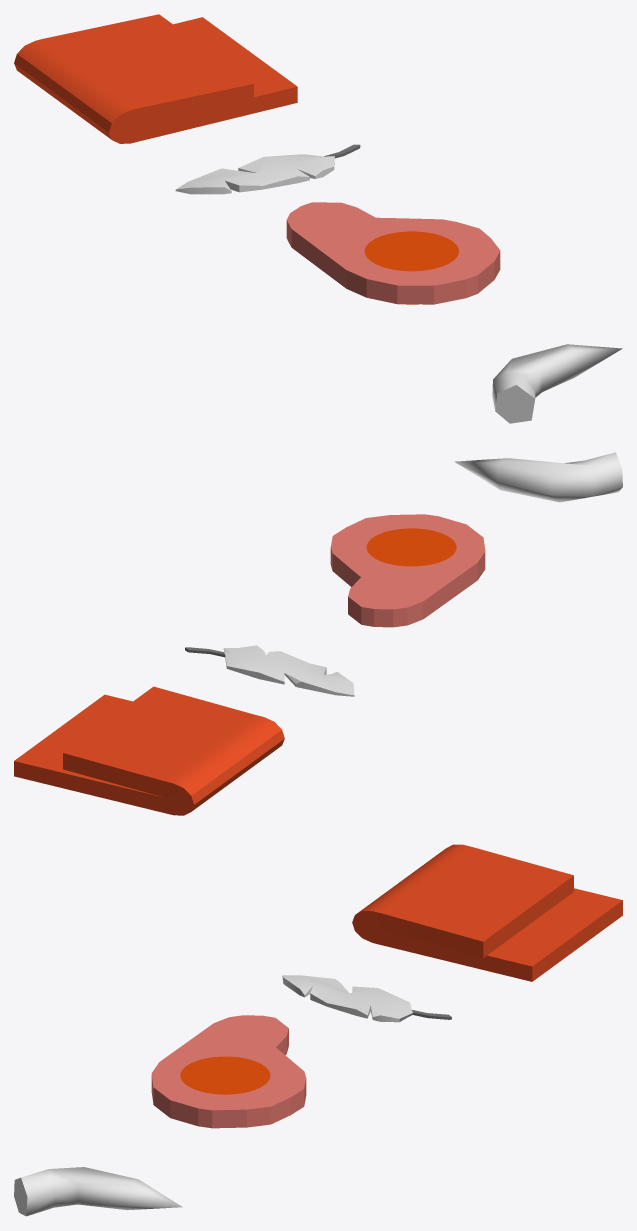
The model's file is Items.fbx.
3 views of the same model, one above another, from view 1: azimuth 30°, elevation 25°; view 2: azimuth 150°, elevation 25°; view 3: azimuth 330°, elevation 25° (orthographic). The views are drawn at different scales.
Parts seen in each view (by area): view 1: Leather, Meat, Claws, Feather; view 2: Leather, Meat, Claws, Feather; view 3: Leather, Meat, Claws, Feather.
Part boxes in pixels (x1=…): Leather: x1=14, y1=14, x2=297, y2=143; Meat: x1=286, y1=202, x2=500, y2=304; Claws: x1=492, y1=344, x2=622, y2=423; Feather: x1=175, y1=144, x2=360, y2=194; Leather: x1=14, y1=686, x2=284, y2=815; Meat: x1=330, y1=514, x2=485, y2=627; Claws: x1=454, y1=452, x2=622, y2=502; Feather: x1=185, y1=645, x2=354, y2=696; Leather: x1=352, y1=844, x2=622, y2=981; Meat: x1=151, y1=1015, x2=306, y2=1128; Claws: x1=14, y1=1167, x2=182, y2=1216; Feather: x1=282, y1=975, x2=451, y2=1022.
Bounding box in the file's own units: 233 × 49.88 × 1007.
